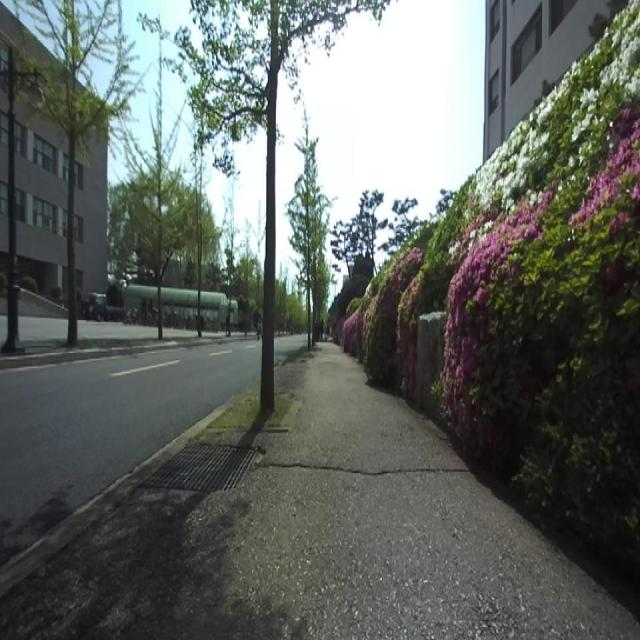sidewalk: (0, 342, 640, 639), (78, 321, 156, 339), (19, 316, 68, 340), (163, 329, 197, 337), (0, 316, 6, 346), (202, 332, 225, 337), (231, 332, 245, 335), (247, 332, 256, 335)
